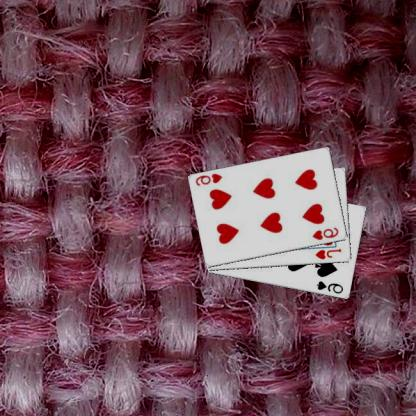6H: (195, 170, 225, 188), (312, 225, 342, 241)
9S: (316, 278, 346, 295)
JH: (315, 246, 344, 260)
